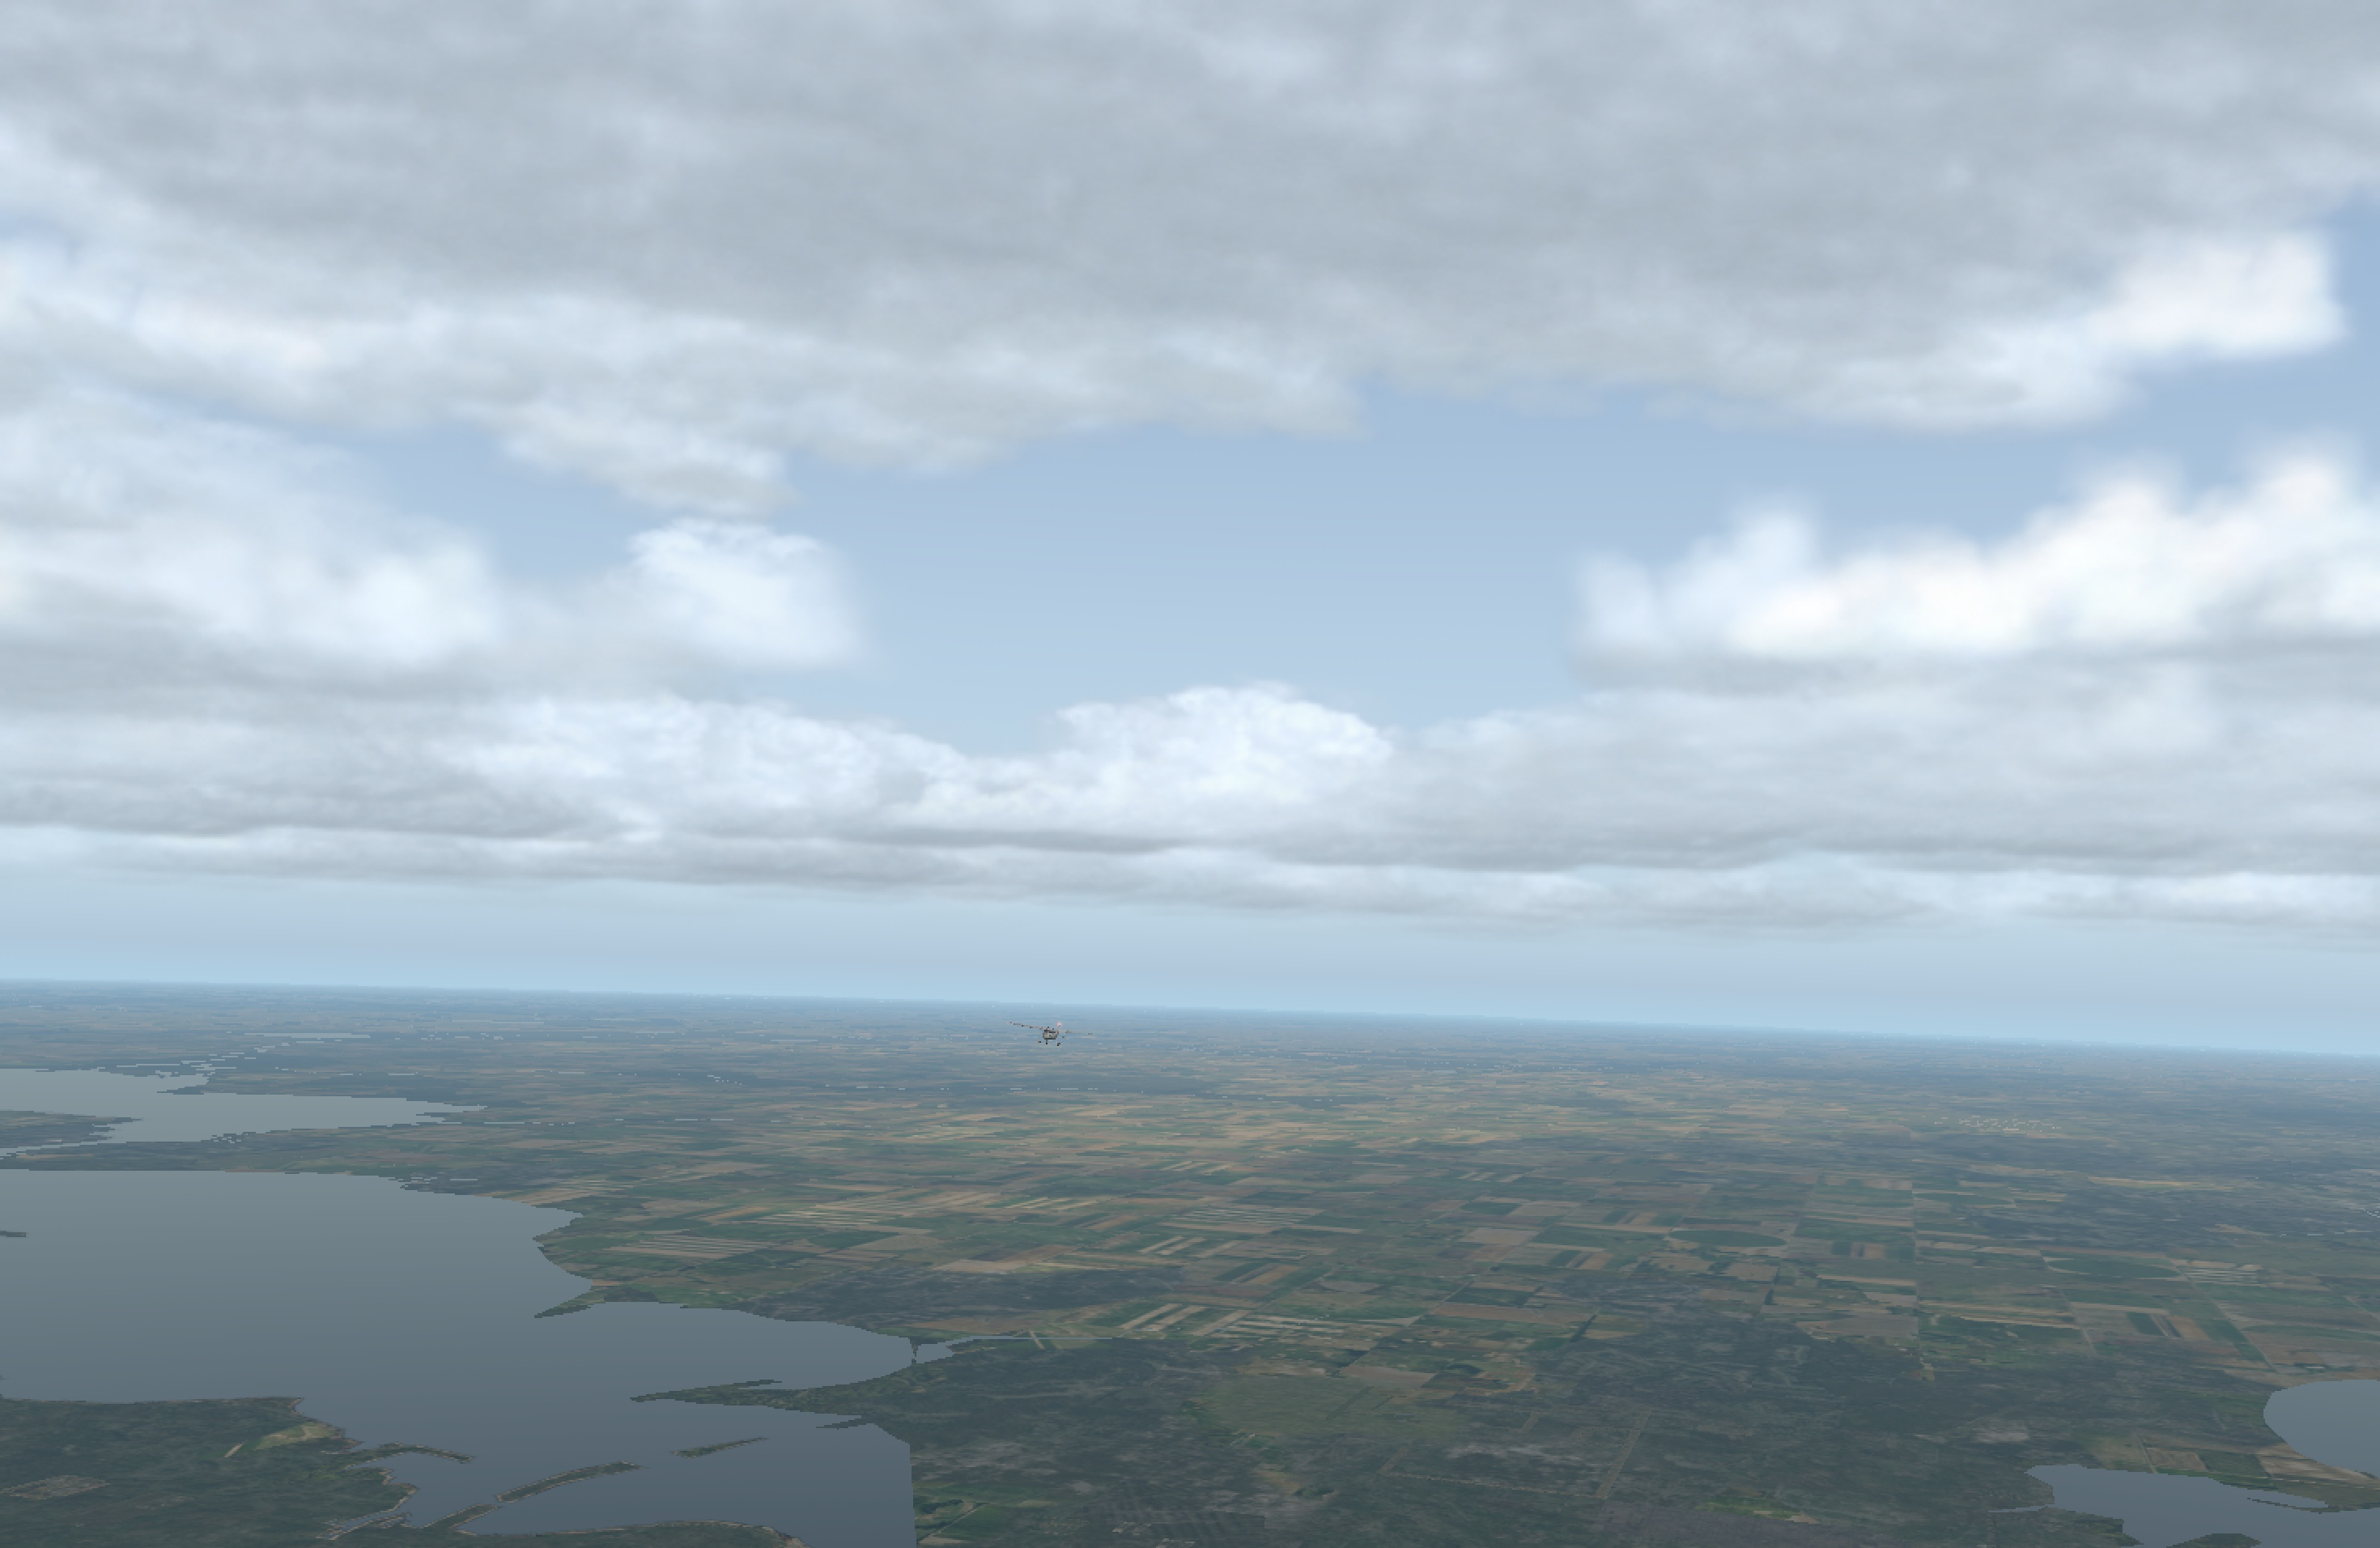aircraft: (1018, 1022, 1081, 1045)
